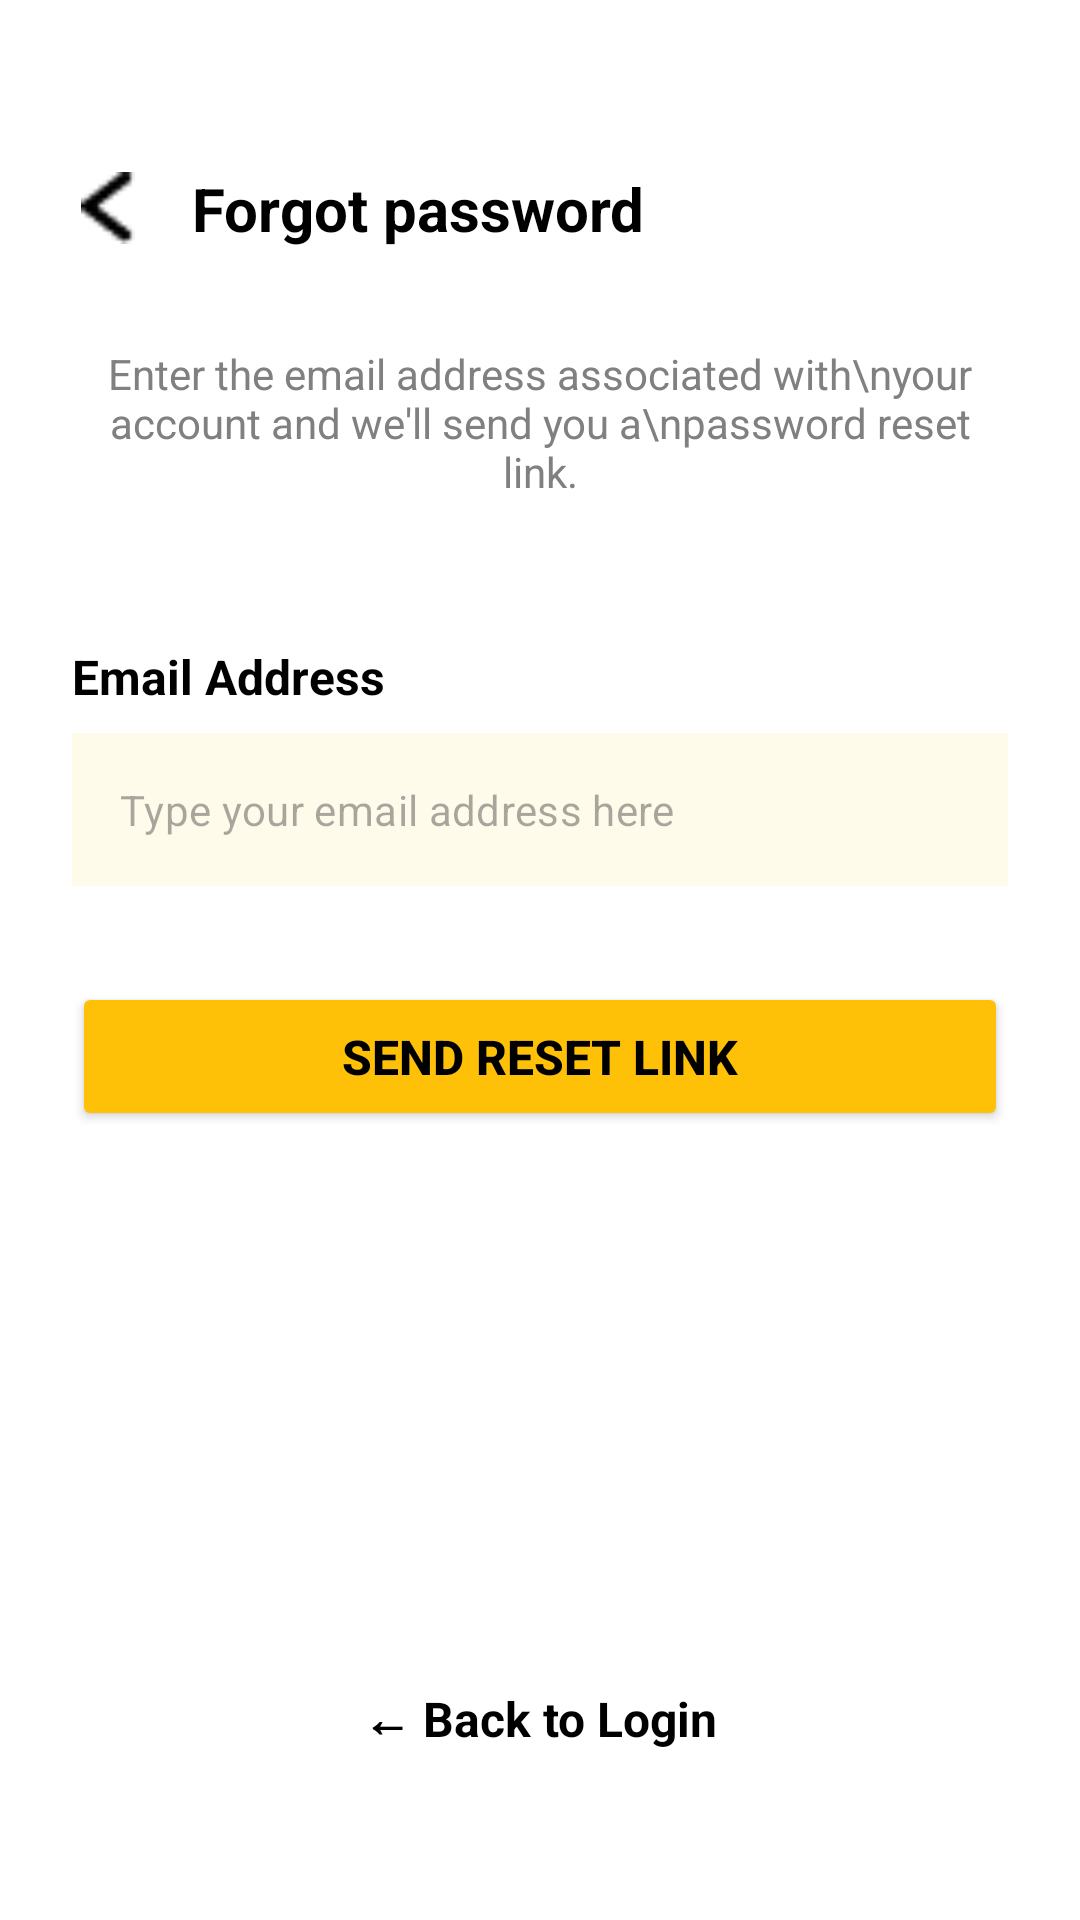

Where icons sit on this 1080 × 1920 app screen, as rect(x1, y1, x2, y2):
arrow back: rect(81, 172, 133, 244)
